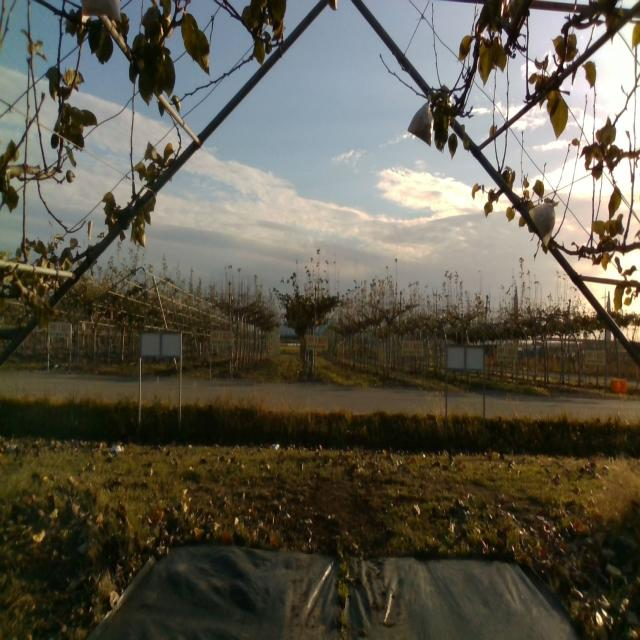pearbags: (529, 196, 557, 252), (405, 94, 432, 148)
